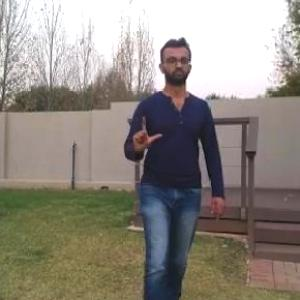land_hand: (128, 111, 166, 153)
